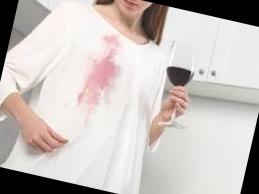wine: (69, 29, 130, 124)
